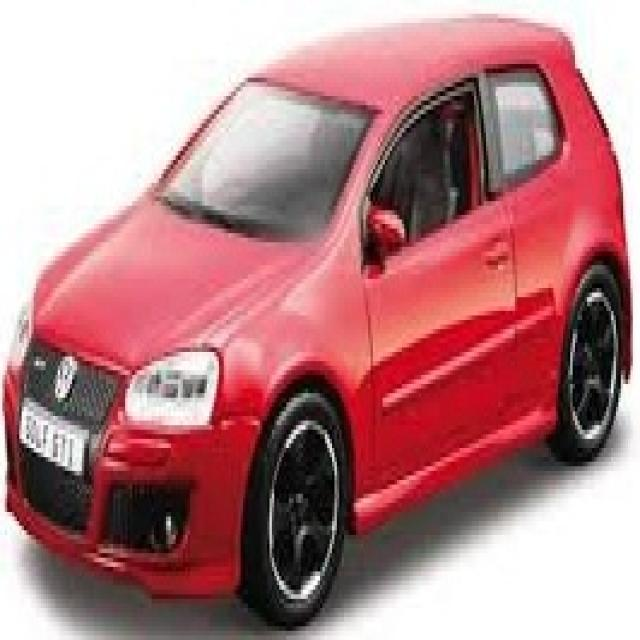red: (6, 13, 640, 612)
